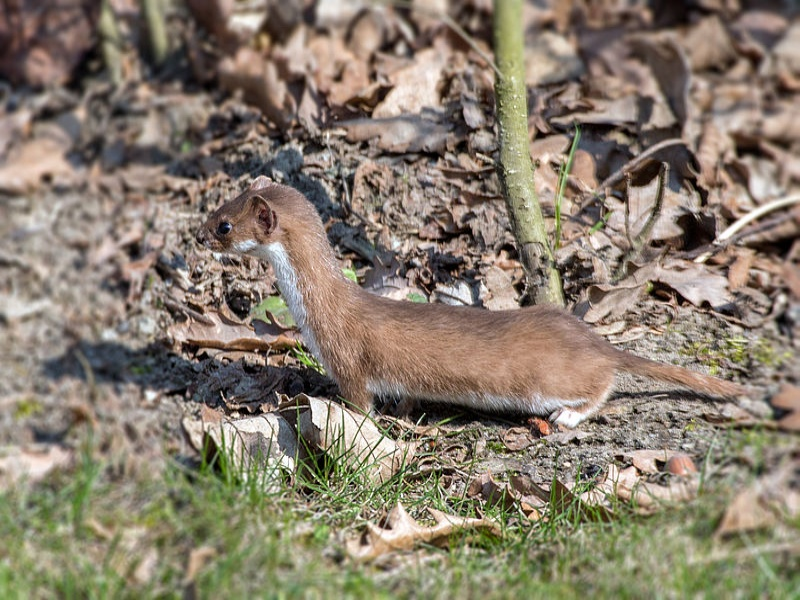minkish: (199, 180, 762, 441)
